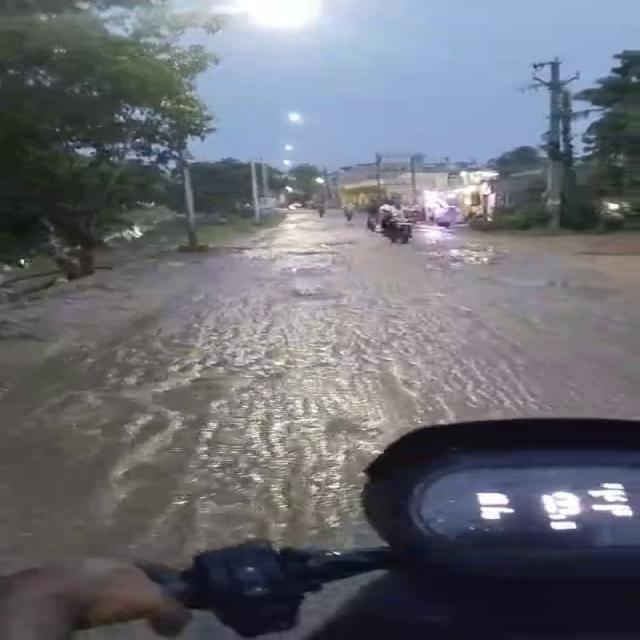pothole: (156, 385, 236, 414), (103, 463, 196, 481), (428, 254, 515, 272), (277, 284, 353, 304), (316, 415, 371, 439), (426, 246, 509, 258), (282, 262, 334, 279), (290, 248, 346, 261), (305, 240, 368, 248)
